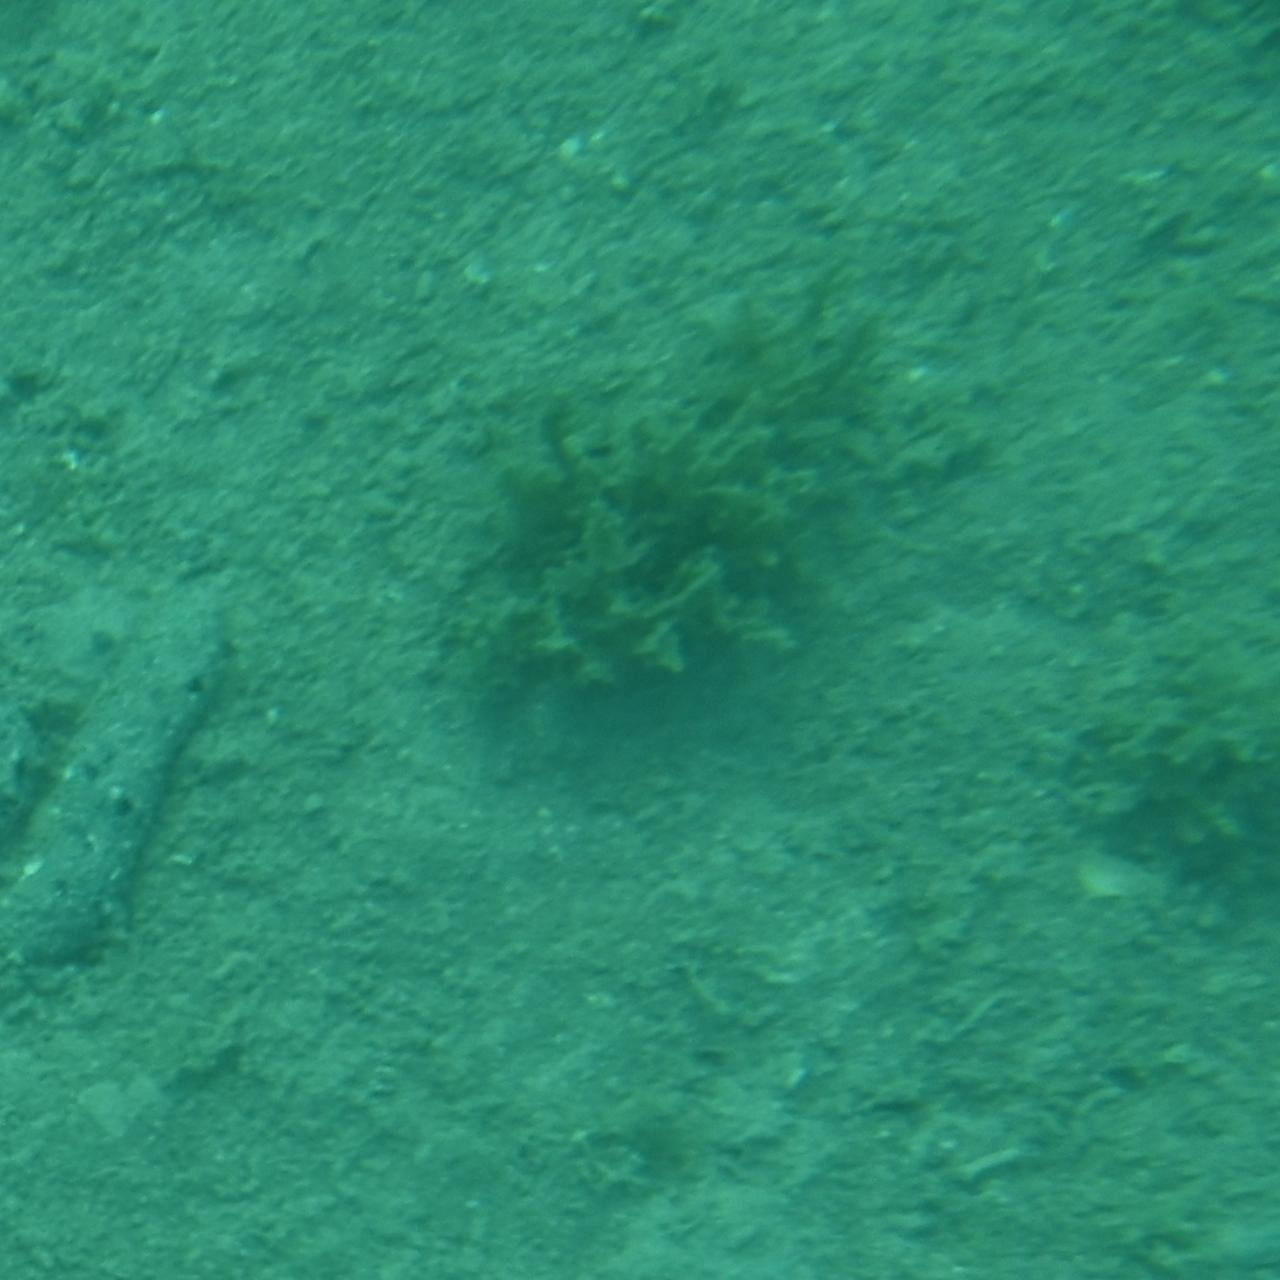Holothuria tubulosa: (0, 579, 282, 979), (1119, 669, 1280, 1146), (956, 1075, 1280, 1280), (0, 692, 184, 955), (0, 0, 226, 181)
Phaeophyceae -cfr Cystoseira-: (448, 305, 980, 713), (376, 0, 712, 252), (1063, 0, 1280, 213), (1102, 1130, 1280, 1280)
